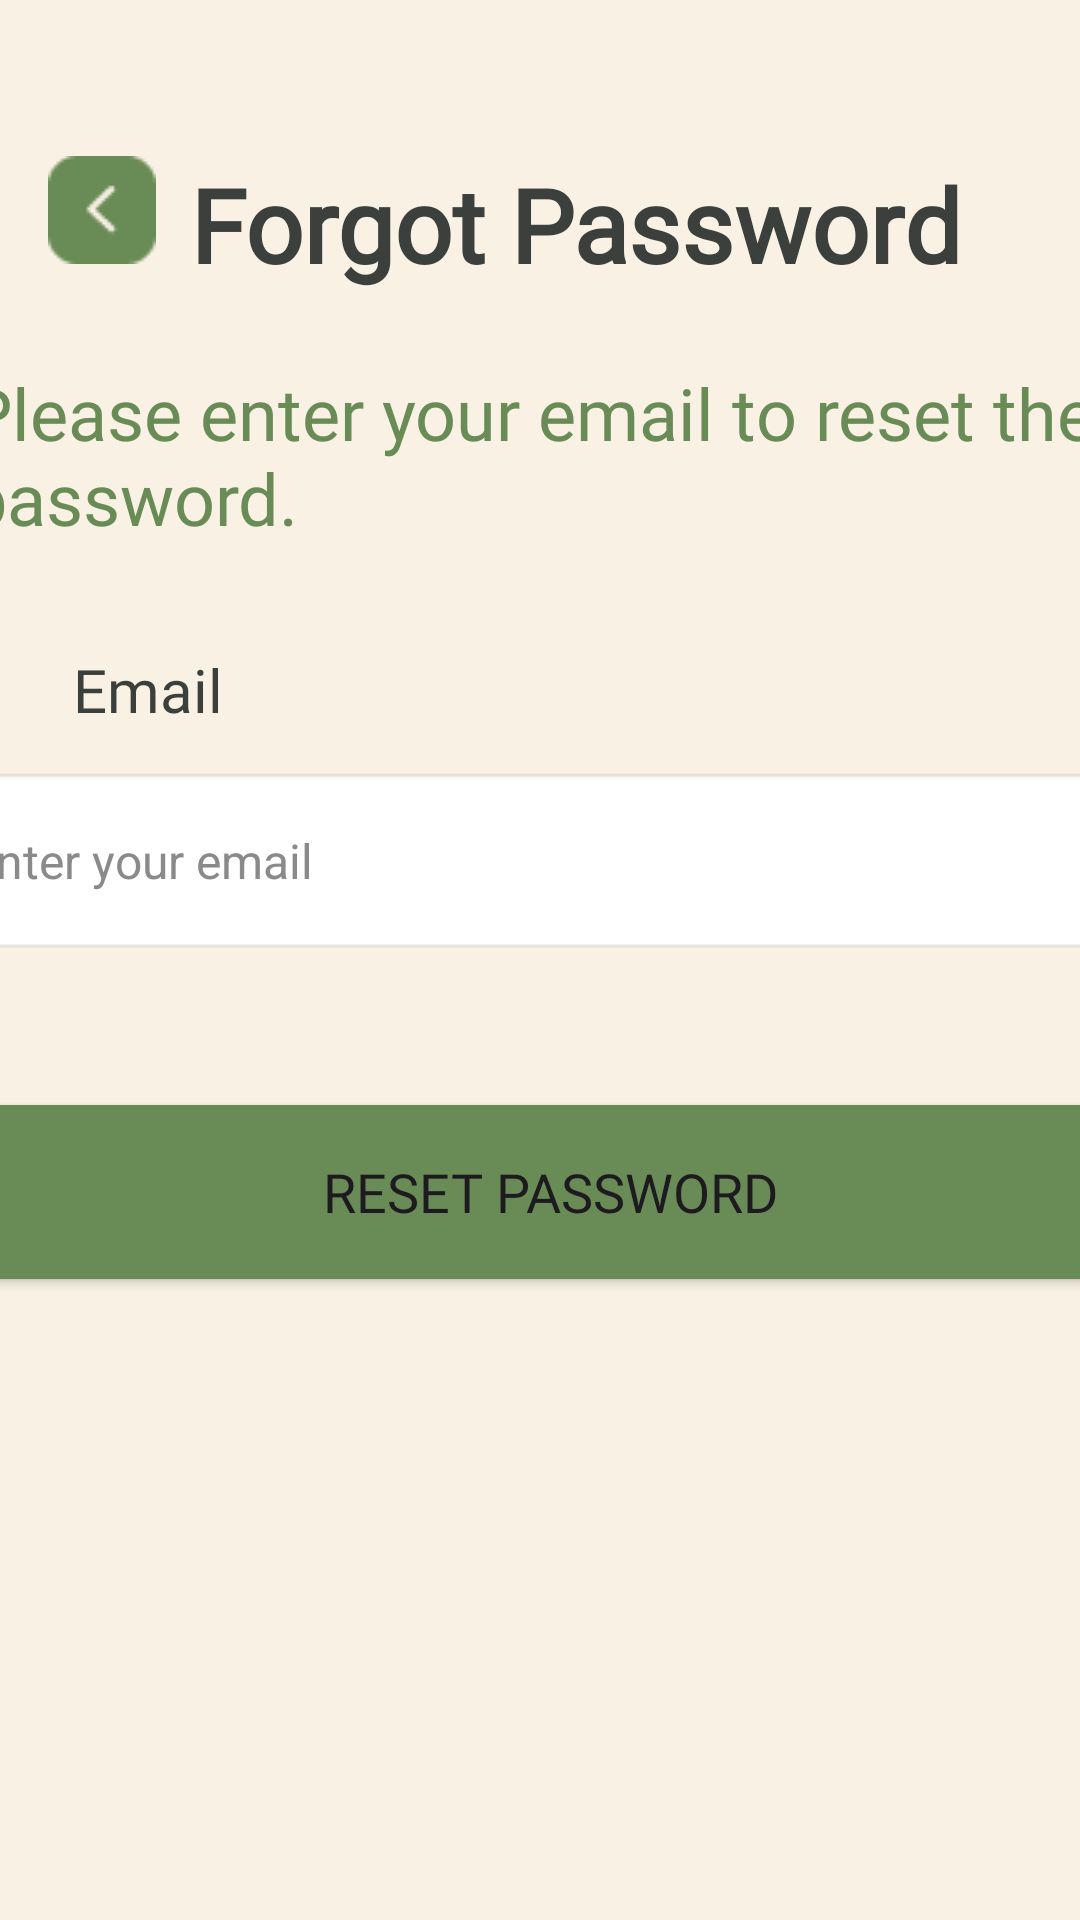

Icons on this 1080 × 1920 Android screen, each with its box as (x1, y1, x2, y2):
Back Button: (48, 156, 156, 264)
